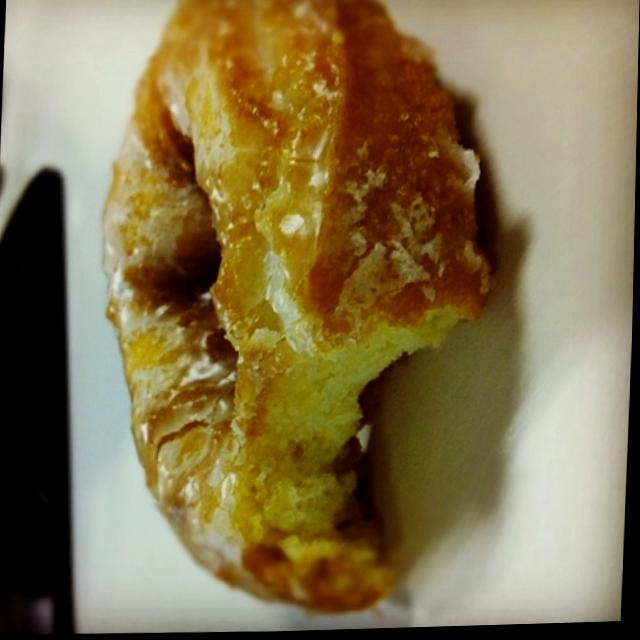炸货点心: (19, 0, 628, 639)
